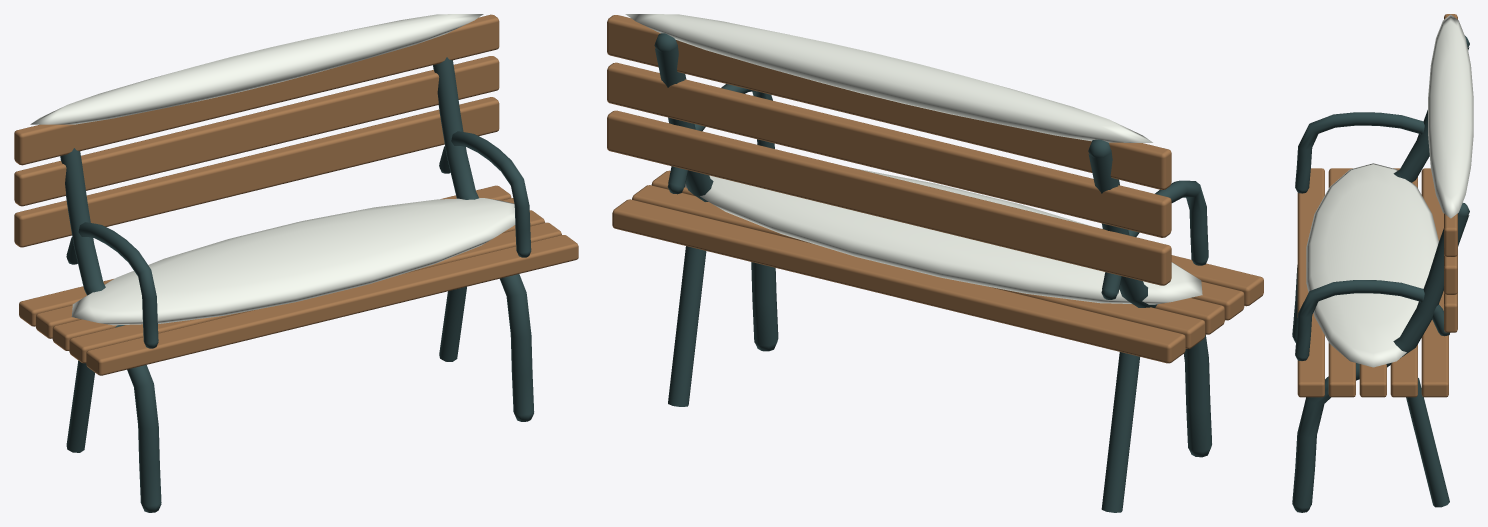
Rendered from almanac-gardens-snowy-bench-2fba54d1__22087.glb.
3 renders of one model, left to right at view 1: azimuth 30°, elevation 25°; view 2: azimuth 150°, elevation 25°; view 3: azimuth 270°, elevation 25°, orthographic. The views are drawn at different scales.
Parts seen in each view (by area): view 1: snowy-bench-oak, snowy-bench-snow, snowy-bench-iron; view 2: snowy-bench-oak, snowy-bench-snow, snowy-bench-iron; view 3: snowy-bench-snow, snowy-bench-iron, snowy-bench-oak.
Part boxes in pixels (x1,y1,x2,y2): snowy-bench-oak: (14, 14, 578, 375); snowy-bench-snow: (30, 14, 515, 325); snowy-bench-iron: (60, 57, 534, 512); snowy-bench-oak: (607, 15, 1263, 363); snowy-bench-snow: (625, 14, 1202, 304); snowy-bench-iron: (654, 33, 1211, 512); snowy-bench-snow: (1306, 14, 1473, 367); snowy-bench-iron: (1292, 36, 1469, 512); snowy-bench-oak: (1297, 14, 1457, 397).
Size of the model in its own units: 1.65 by 1.16 by 0.5858.
